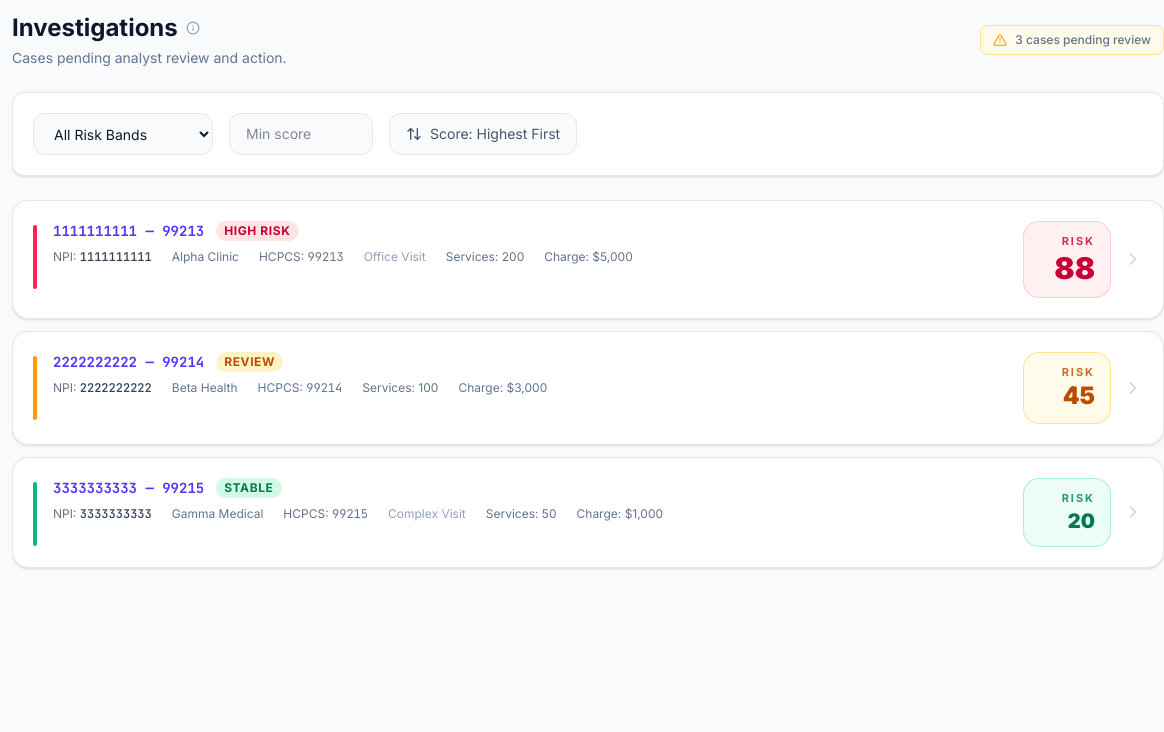
Investigations › filtering by high_risk band re-fetches with risk_band param
Expected: the text "Alpha Clinic" is shown, 172,249 -> 239,265
Select "High Risk" in the dropdown. click: (123, 134)
box: 33,113 -> 213,155
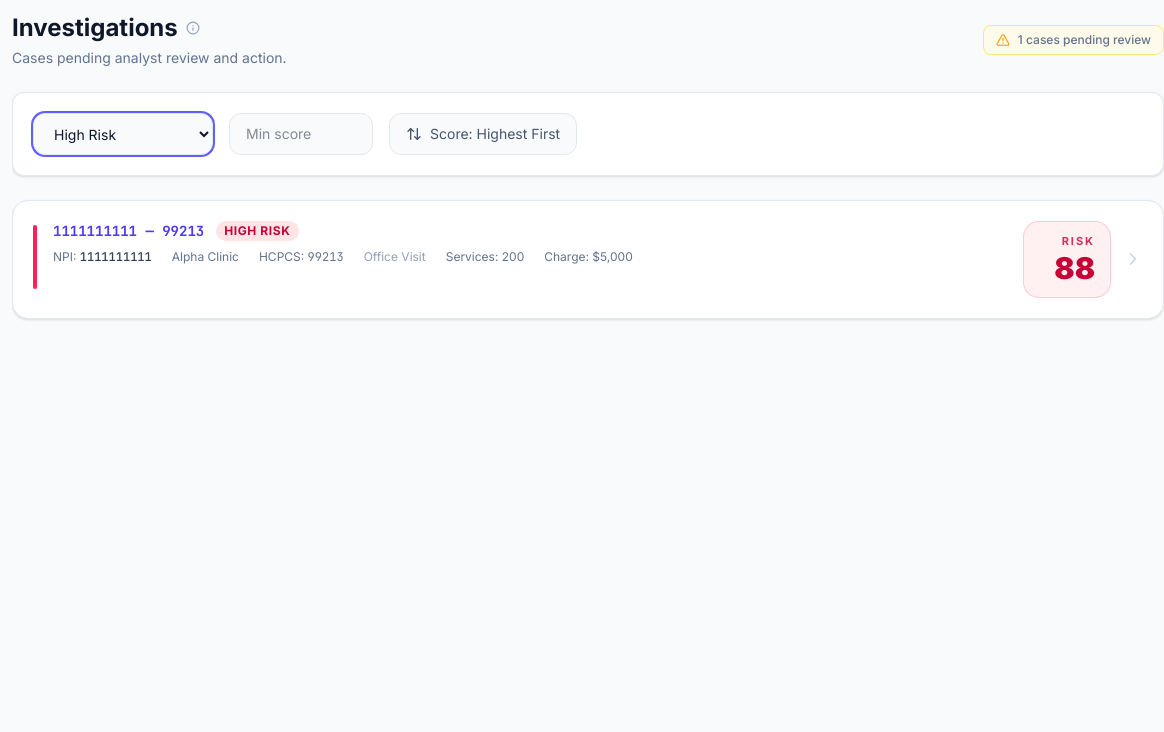
Expected: the text "Alpha Clinic" is shown, 172,249 -> 239,265
Now the link "Beta Health" is gone
Now the link "Gamma Medical" is gone
